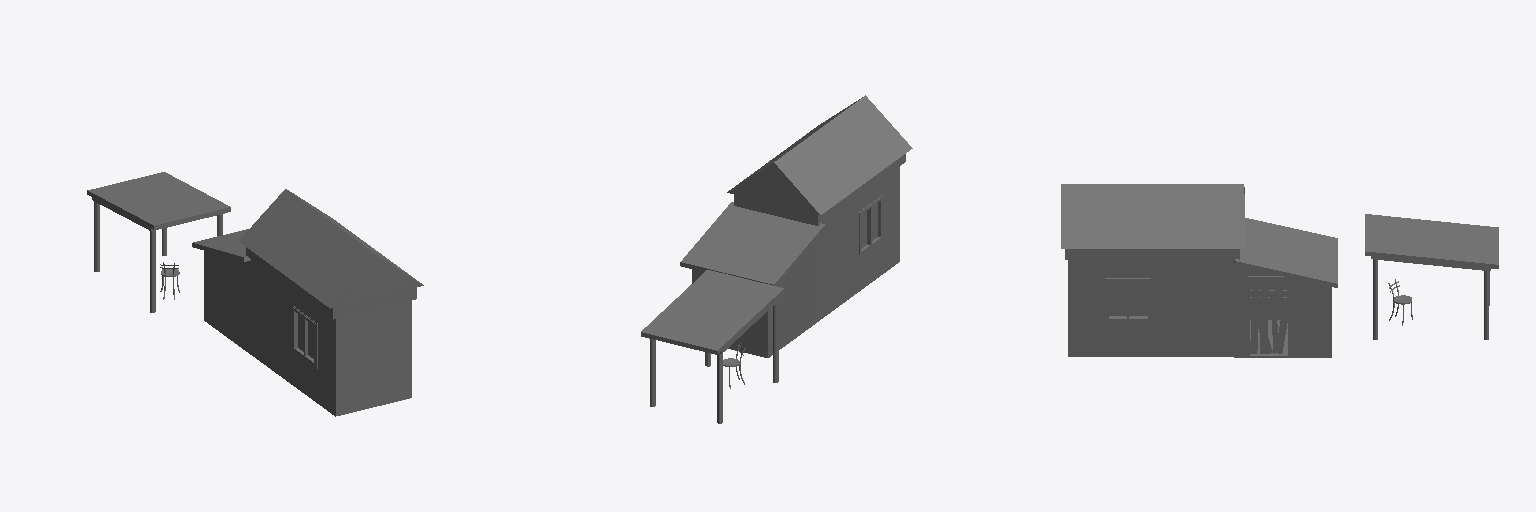
Rendered from Shed02.obj.
The picture shows the model from 3 angles: view 1: azimuth 30°, elevation 25°; view 2: azimuth 150°, elevation 25°; view 3: azimuth 270°, elevation 25°; orthographic projection.
Visible parts, largest first — view 1: pCube17; view 2: pCube17; view 3: pCube17.
Part boxes in pixels (x1,y1,x2,y2): pCube17: (87, 172, 423, 416); pCube17: (641, 95, 912, 423); pCube17: (1061, 184, 1498, 357).
Bounding box in the file's own units: 10.35 × 13.01 × 33.25.